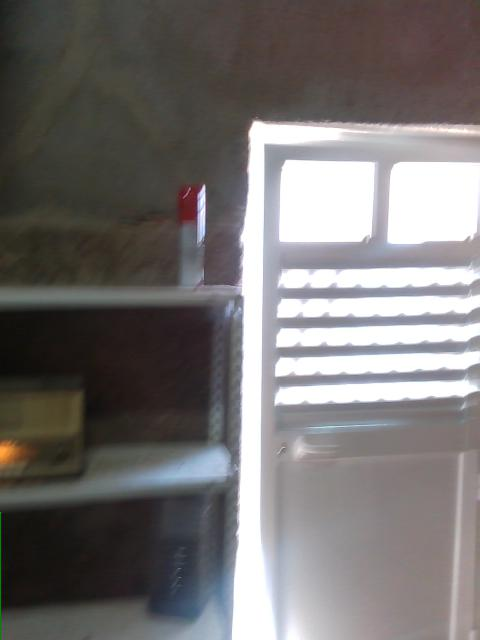door: (223, 119, 479, 639)
